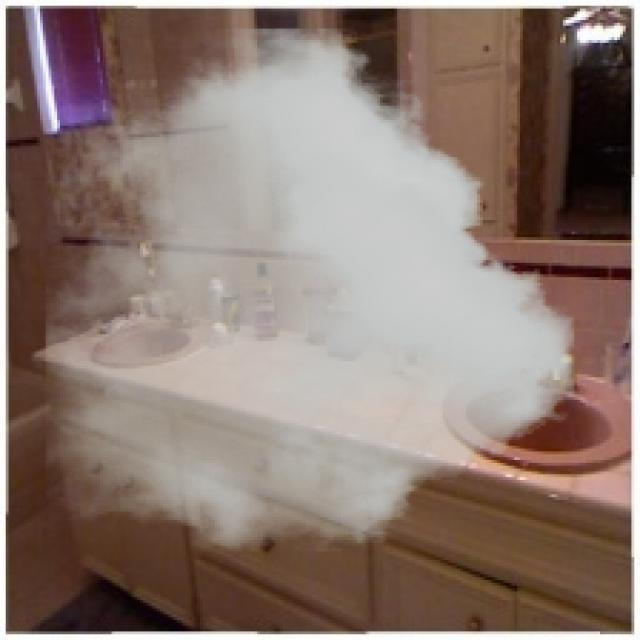smoke: (46, 29, 574, 552)
